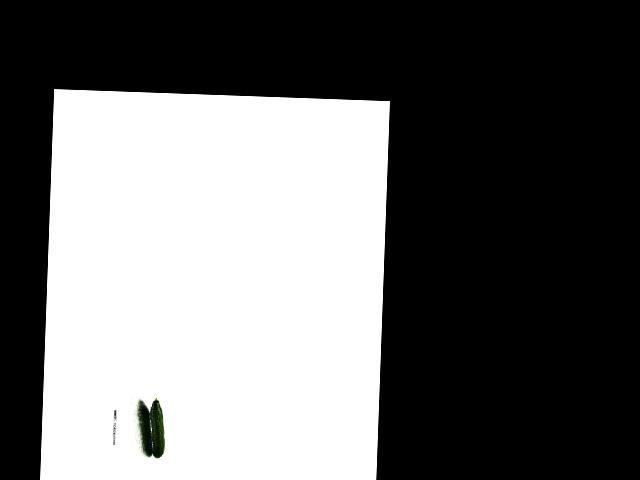cucumber: (147, 397, 166, 457)
